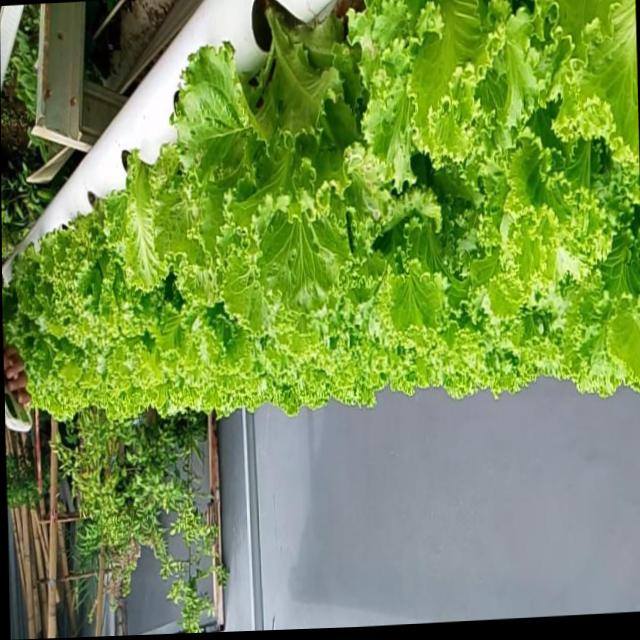Mature: (160, 0, 380, 328), (39, 188, 147, 353)
